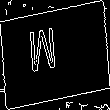M_S: (40, 27, 70, 83)
